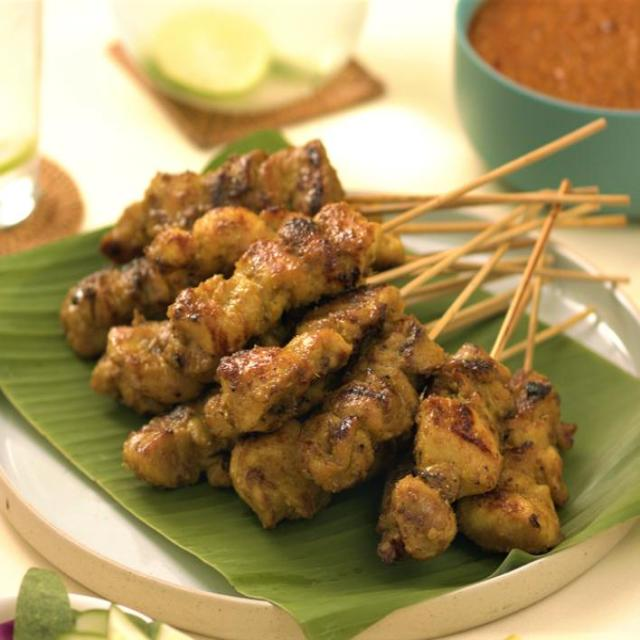Sate: (63, 135, 626, 606)
